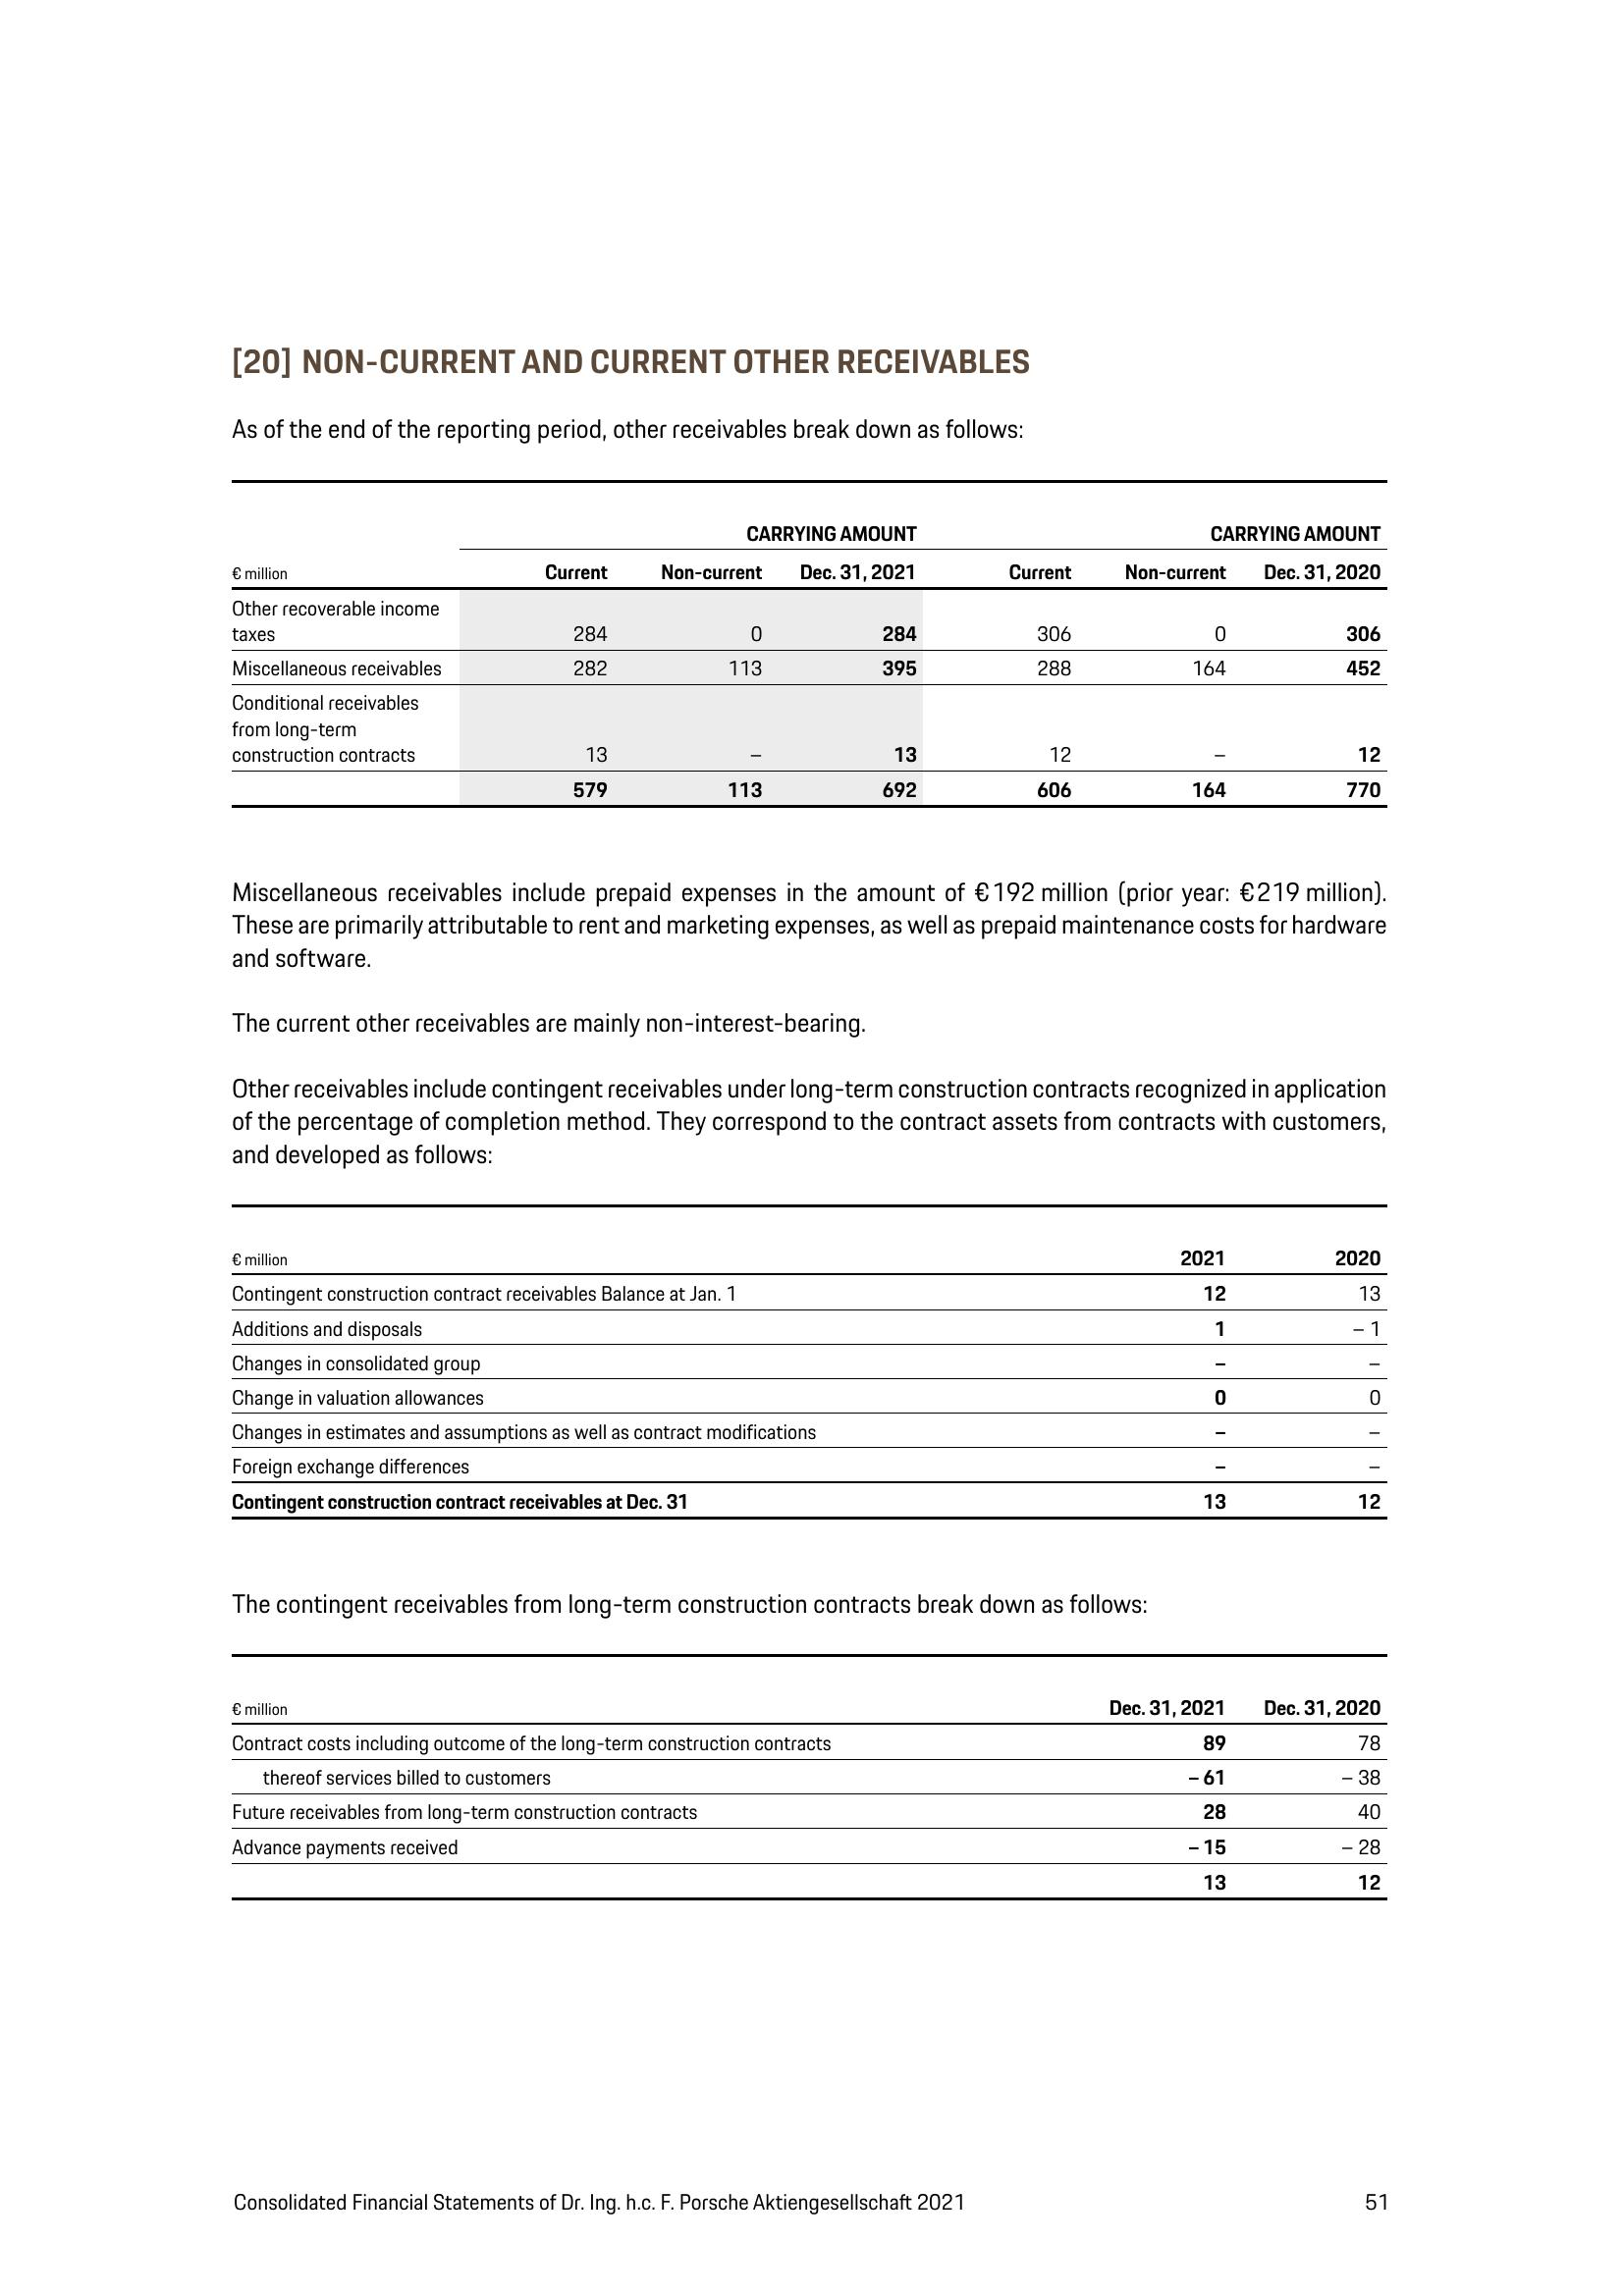Footer: (0, 2161, 1624, 2296)
Header: (0, 0, 1624, 202)
Table: (190, 480, 1457, 827), (199, 1200, 1425, 1527), (204, 1639, 1403, 1943)
